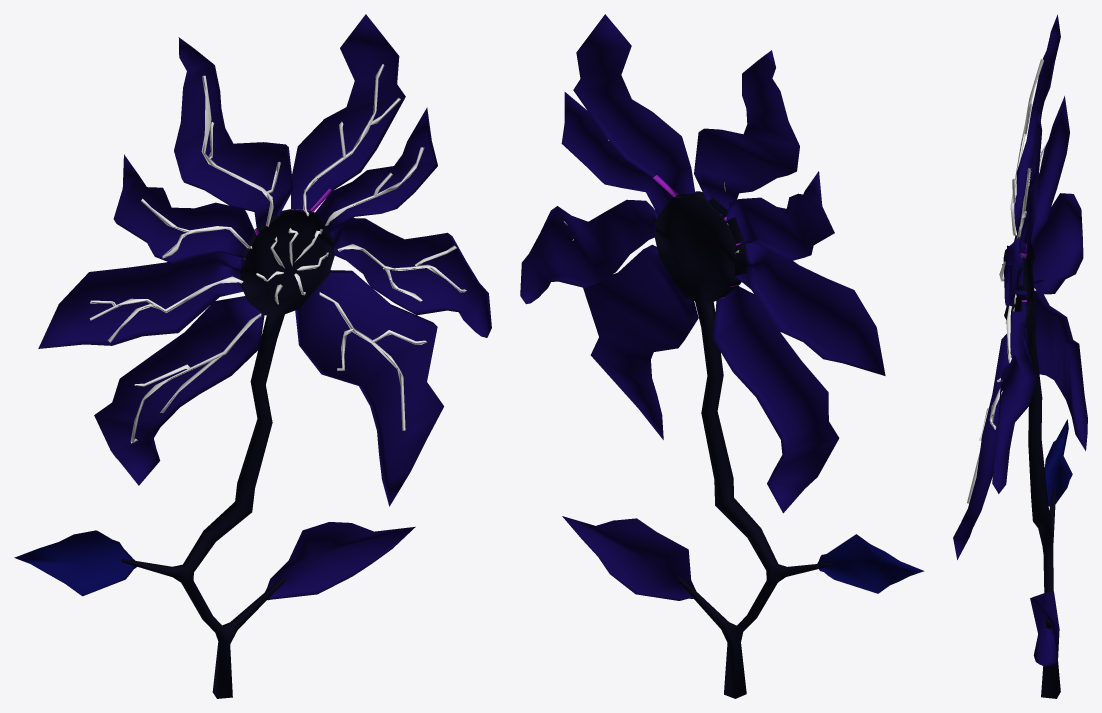
The model's file is black_flower.fbx.
3 views of the same model, side by side, from view 1: azimuth 30°, elevation 25°; view 2: azimuth 150°, elevation 25°; view 3: azimuth 270°, elevation 25° (orthographic).
Parts seen in each view (by area): view 1: Cube.008, BézierCurve, Plane.066, Plane.067, BézierCurve.001; view 2: Cube.008, Plane.066, Plane.067; view 3: Cube.008, BézierCurve, Plane.066, Plane.067.
Boxes of the visible parts, x1,y1,x2,y2 form: Cube.008: (38,14,491,698); BézierCurve: (89,64,466,443); Plane.066: (265,522,415,600); Plane.067: (14,530,137,596); BézierCurve.001: (256,228,328,304); Cube.008: (520,14,885,698); Plane.066: (562,516,696,600); Plane.067: (816,534,924,593); Cube.008: (953,14,1087,698); BézierCurve: (967,59,1047,503); Plane.066: (1030,591,1059,666); Plane.067: (1044,419,1072,506).
Bounding box in the file's own units: 230 × 332 × 61.37.
